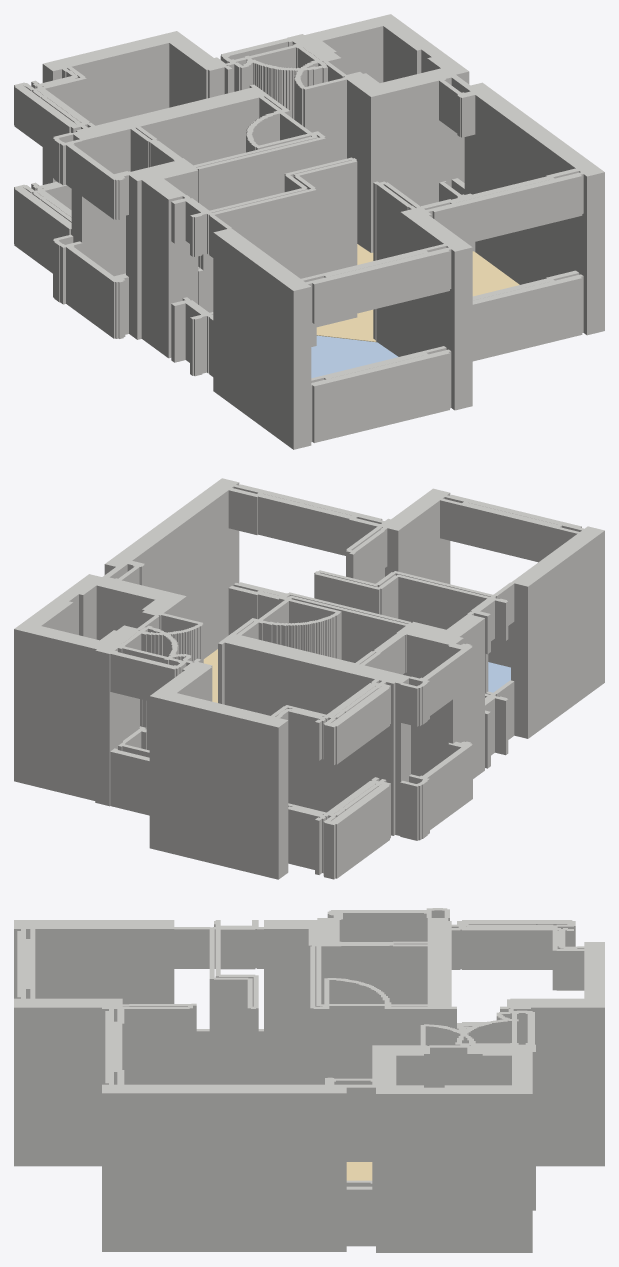
3 views of the same model, one above another, from view 1: azimuth 30°, elevation 25°; view 2: azimuth 150°, elevation 25°; view 3: azimuth 270°, elevation 25° (orthographic). The views are drawn at different scales.
Parts seen in each view (by area): view 1: walls, room:living:4, room:bedroom:5; view 2: walls, room:bedroom:5; view 3: walls, room:living:4.
Boxes of the visible parts, box(x1,y1,x2,y2) form: walls: box(14, 14, 604, 449); room:living:4: box(316, 244, 519, 342); room:bedroom:5: box(311, 335, 398, 378); walls: box(14, 478, 604, 879); room:bedroom:5: box(488, 662, 510, 692); walls: box(14, 908, 604, 1252); room:living:4: box(346, 1162, 372, 1180).
Bounding box in the file's own units: 7.04 × 2.8 × 9.45.
